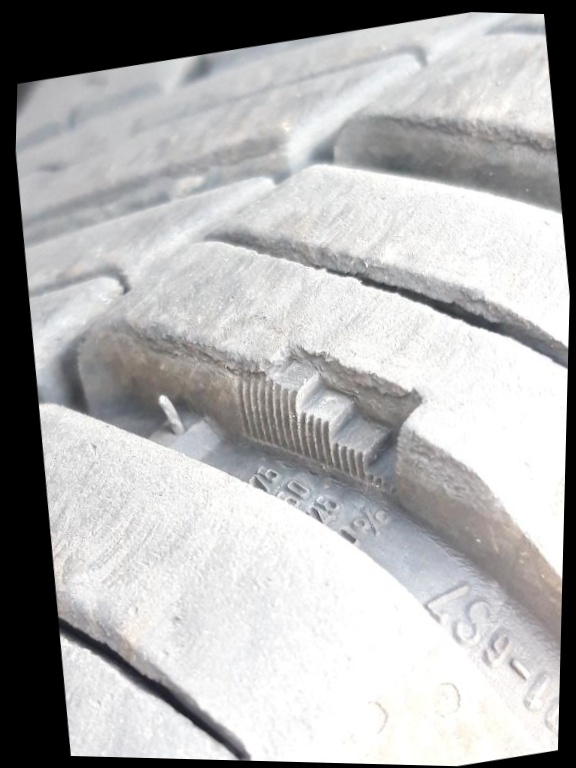temoin:80: (216, 293, 448, 534)
